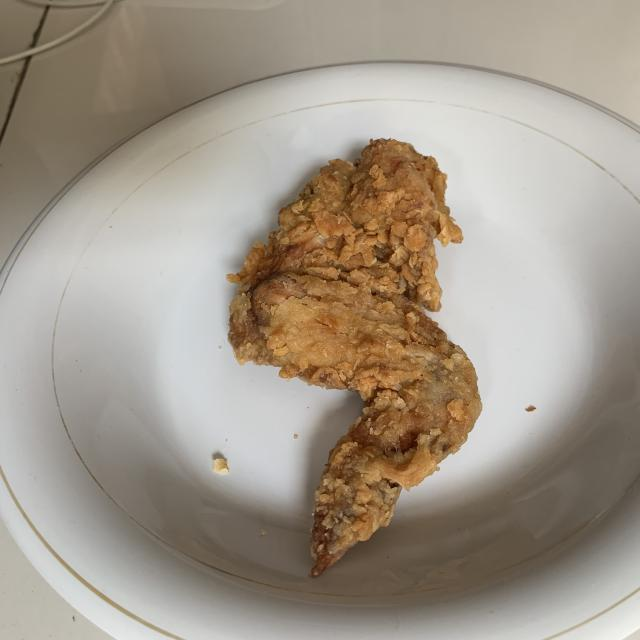Frango: (229, 134, 479, 576)
